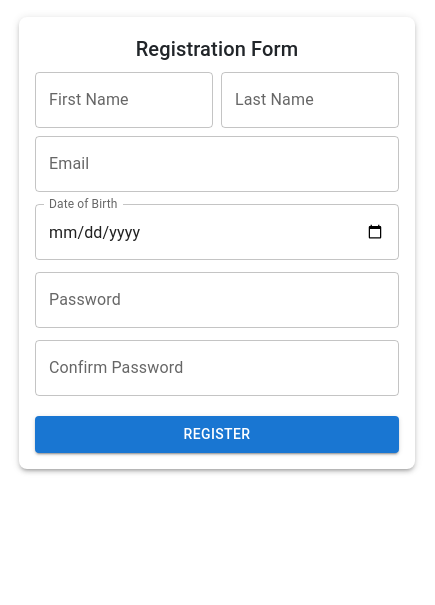
Test: RegistrationForm › shows validation errors
Click the button "Register".
click(217, 434)  # box left=35, top=416, right=399, bottom=452
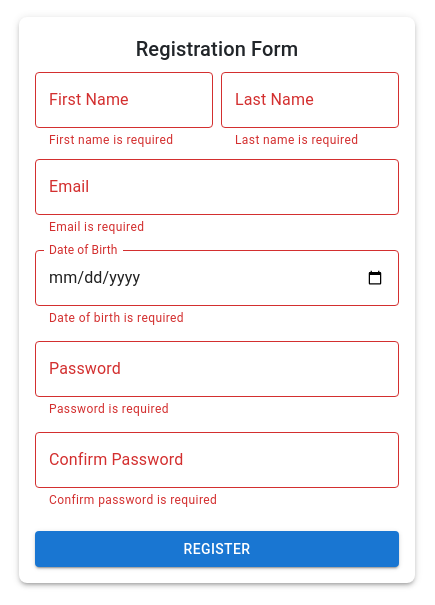
Check: the text "First name is required" is shown, box left=49, top=133, right=173, bottom=147
Check: the text "Last name is required" is shown, box left=235, top=133, right=358, bottom=147
Check: the text "Email is required" is shown, box left=49, top=220, right=144, bottom=234
